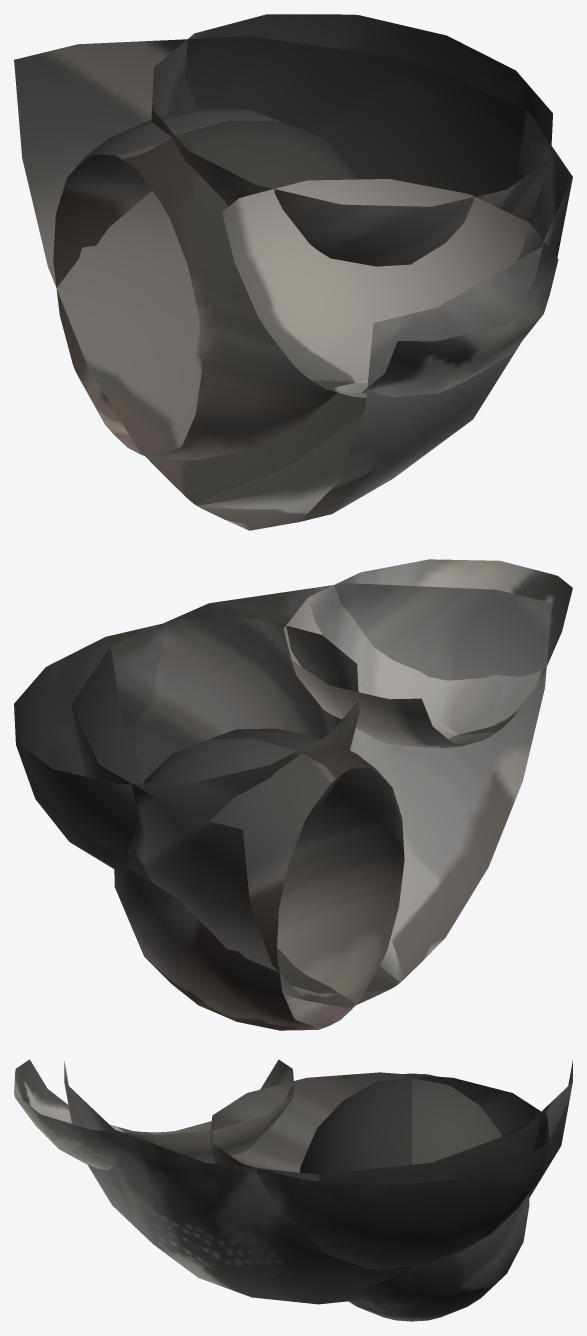
The model's file is section-2.obj.
3 views of the same model, one above another, from view 1: azimuth 30°, elevation 25°; view 2: azimuth 150°, elevation 25°; view 3: azimuth 270°, elevation 25° (orthographic). The views are drawn at different scales.
Size of the model in its own units: 0.843 by 0.6973 by 1.58.
1 material, 1 textured.
